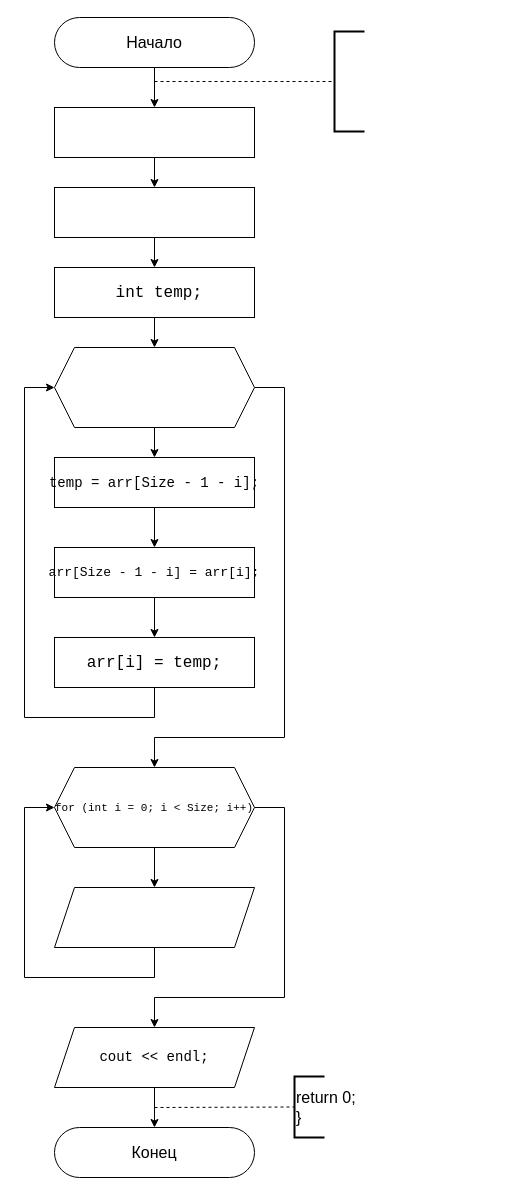
Image size: 510x1195. Some labels were removed from this diagram. Here are the shapes that lost their labels. From the top down, the centre of each, then its label:
(x=349, y=81): #include <iostream> using namespace std; int main() {
(x=154, y=132): const int Size = 9 ;
(x=154, y=212): int arr [ Size ] = { ... };
(x=154, y=387): for ( int i = 0 ; i < Size / 2 ; i ++ )
(x=154, y=917): cout << arr [ i ] << " " ;
